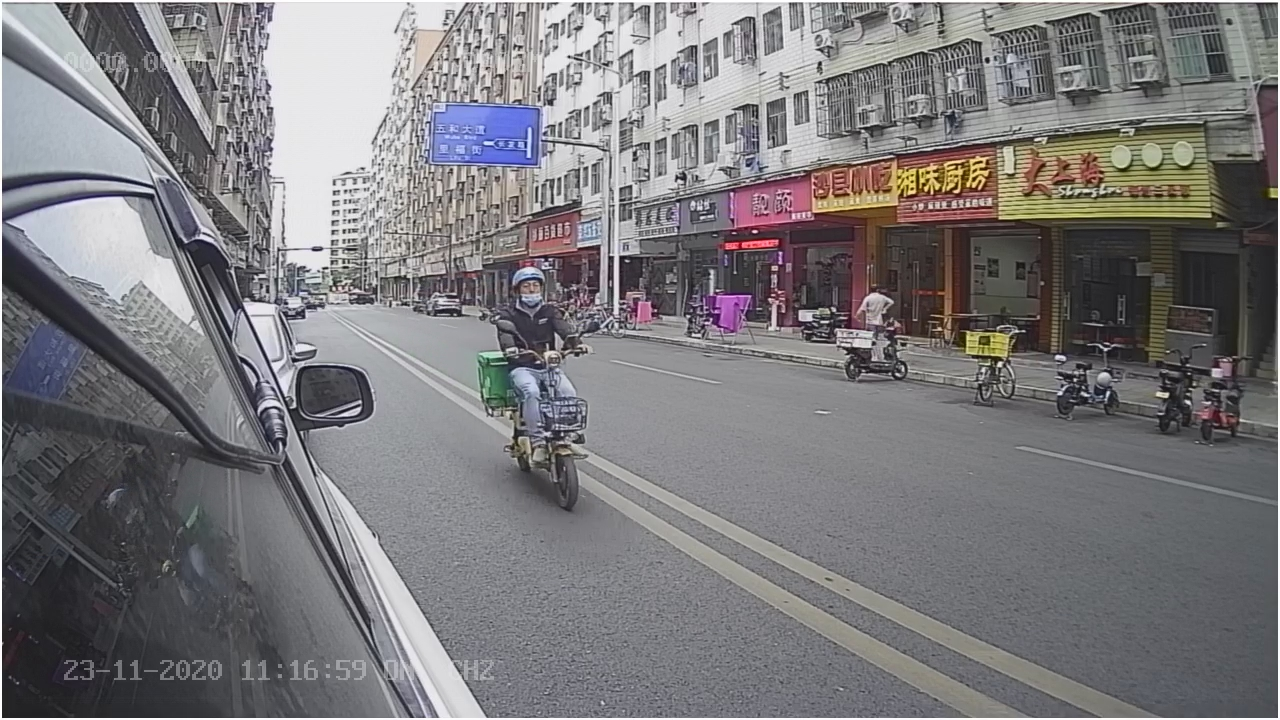person: (494, 265, 597, 347)
